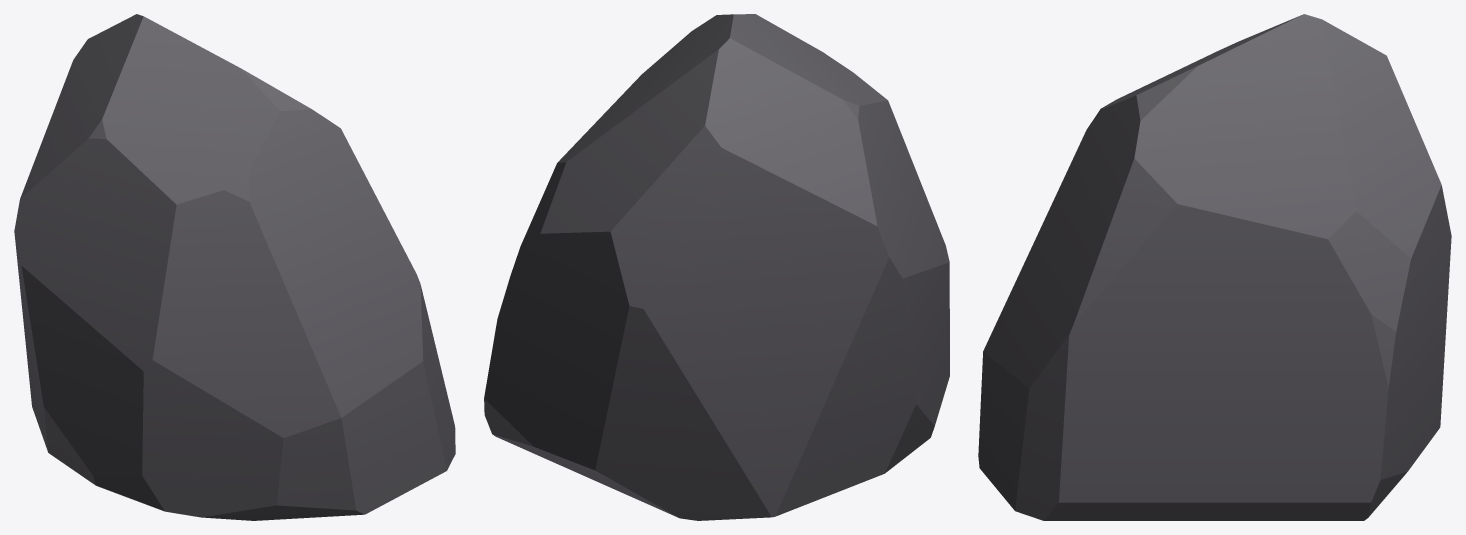
File: Rock_02.fbx
3 renders of one model, left to right at view 1: azimuth 30°, elevation 25°; view 2: azimuth 150°, elevation 25°; view 3: azimuth 270°, elevation 25°, orthographic. The views are drawn at different scales.
Visible parts, largest first — view 1: Rock_02_LOD0; view 2: Rock_02_LOD0; view 3: Rock_02_LOD0.
Boxes of the visible parts, bbox=[...] form: Rock_02_LOD0: bbox=[14, 14, 455, 520]; Rock_02_LOD0: bbox=[484, 14, 949, 520]; Rock_02_LOD0: bbox=[978, 14, 1451, 520].
Size of what is drawn, in the model's own units: 0.5017 by 0.5824 by 0.5856.
